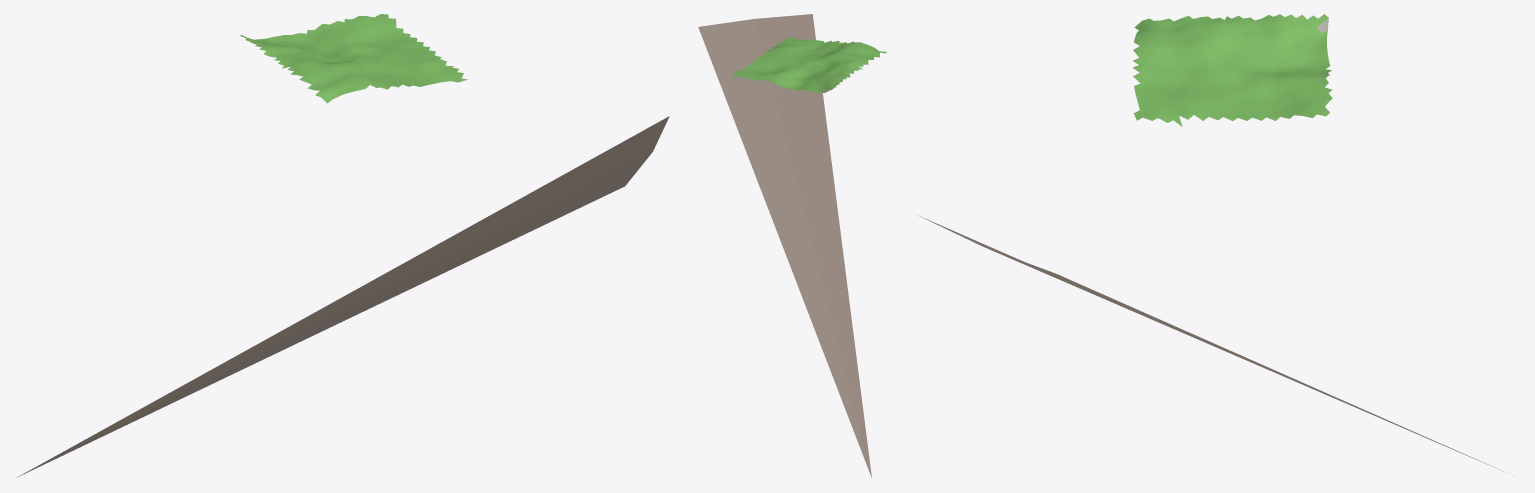
Rendered from flagship_terrain_303.glb.
3 views of the same model, side by side, from view 1: azimuth 30°, elevation 25°; view 2: azimuth 150°, elevation 25°; view 3: azimuth 270°, elevation 25° (orthographic). The views are drawn at different scales.
Parts seen in each view (by area): view 1: Terrain_303; view 2: Terrain_303; view 3: Terrain_303.
Part boxes in pixels (box(x1,y1,x2,y2)): Terrain_303: box(16, 14, 669, 477); Terrain_303: box(698, 14, 886, 477); Terrain_303: box(918, 14, 1512, 475).
Size of the model in its own units: 95.2 by 94.51 by 95.2.
